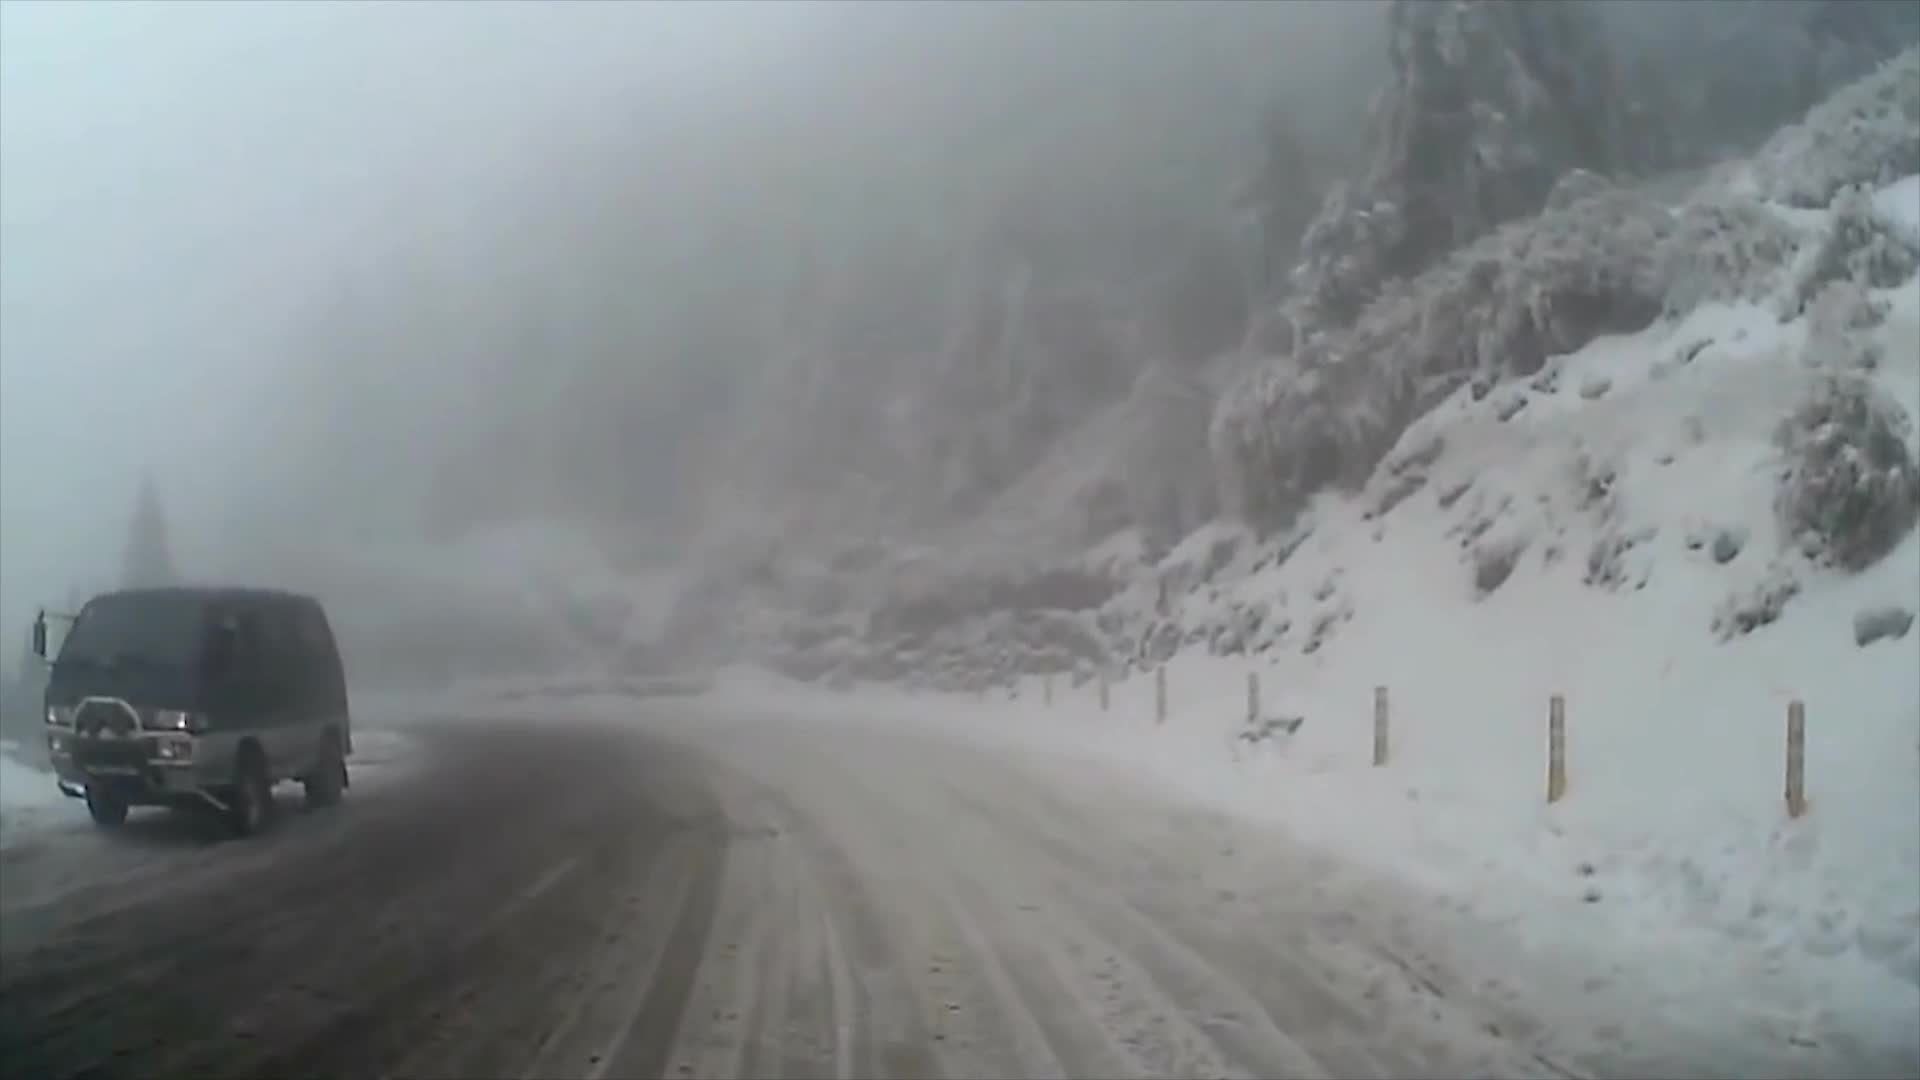vehicle: (29, 585, 352, 836)
